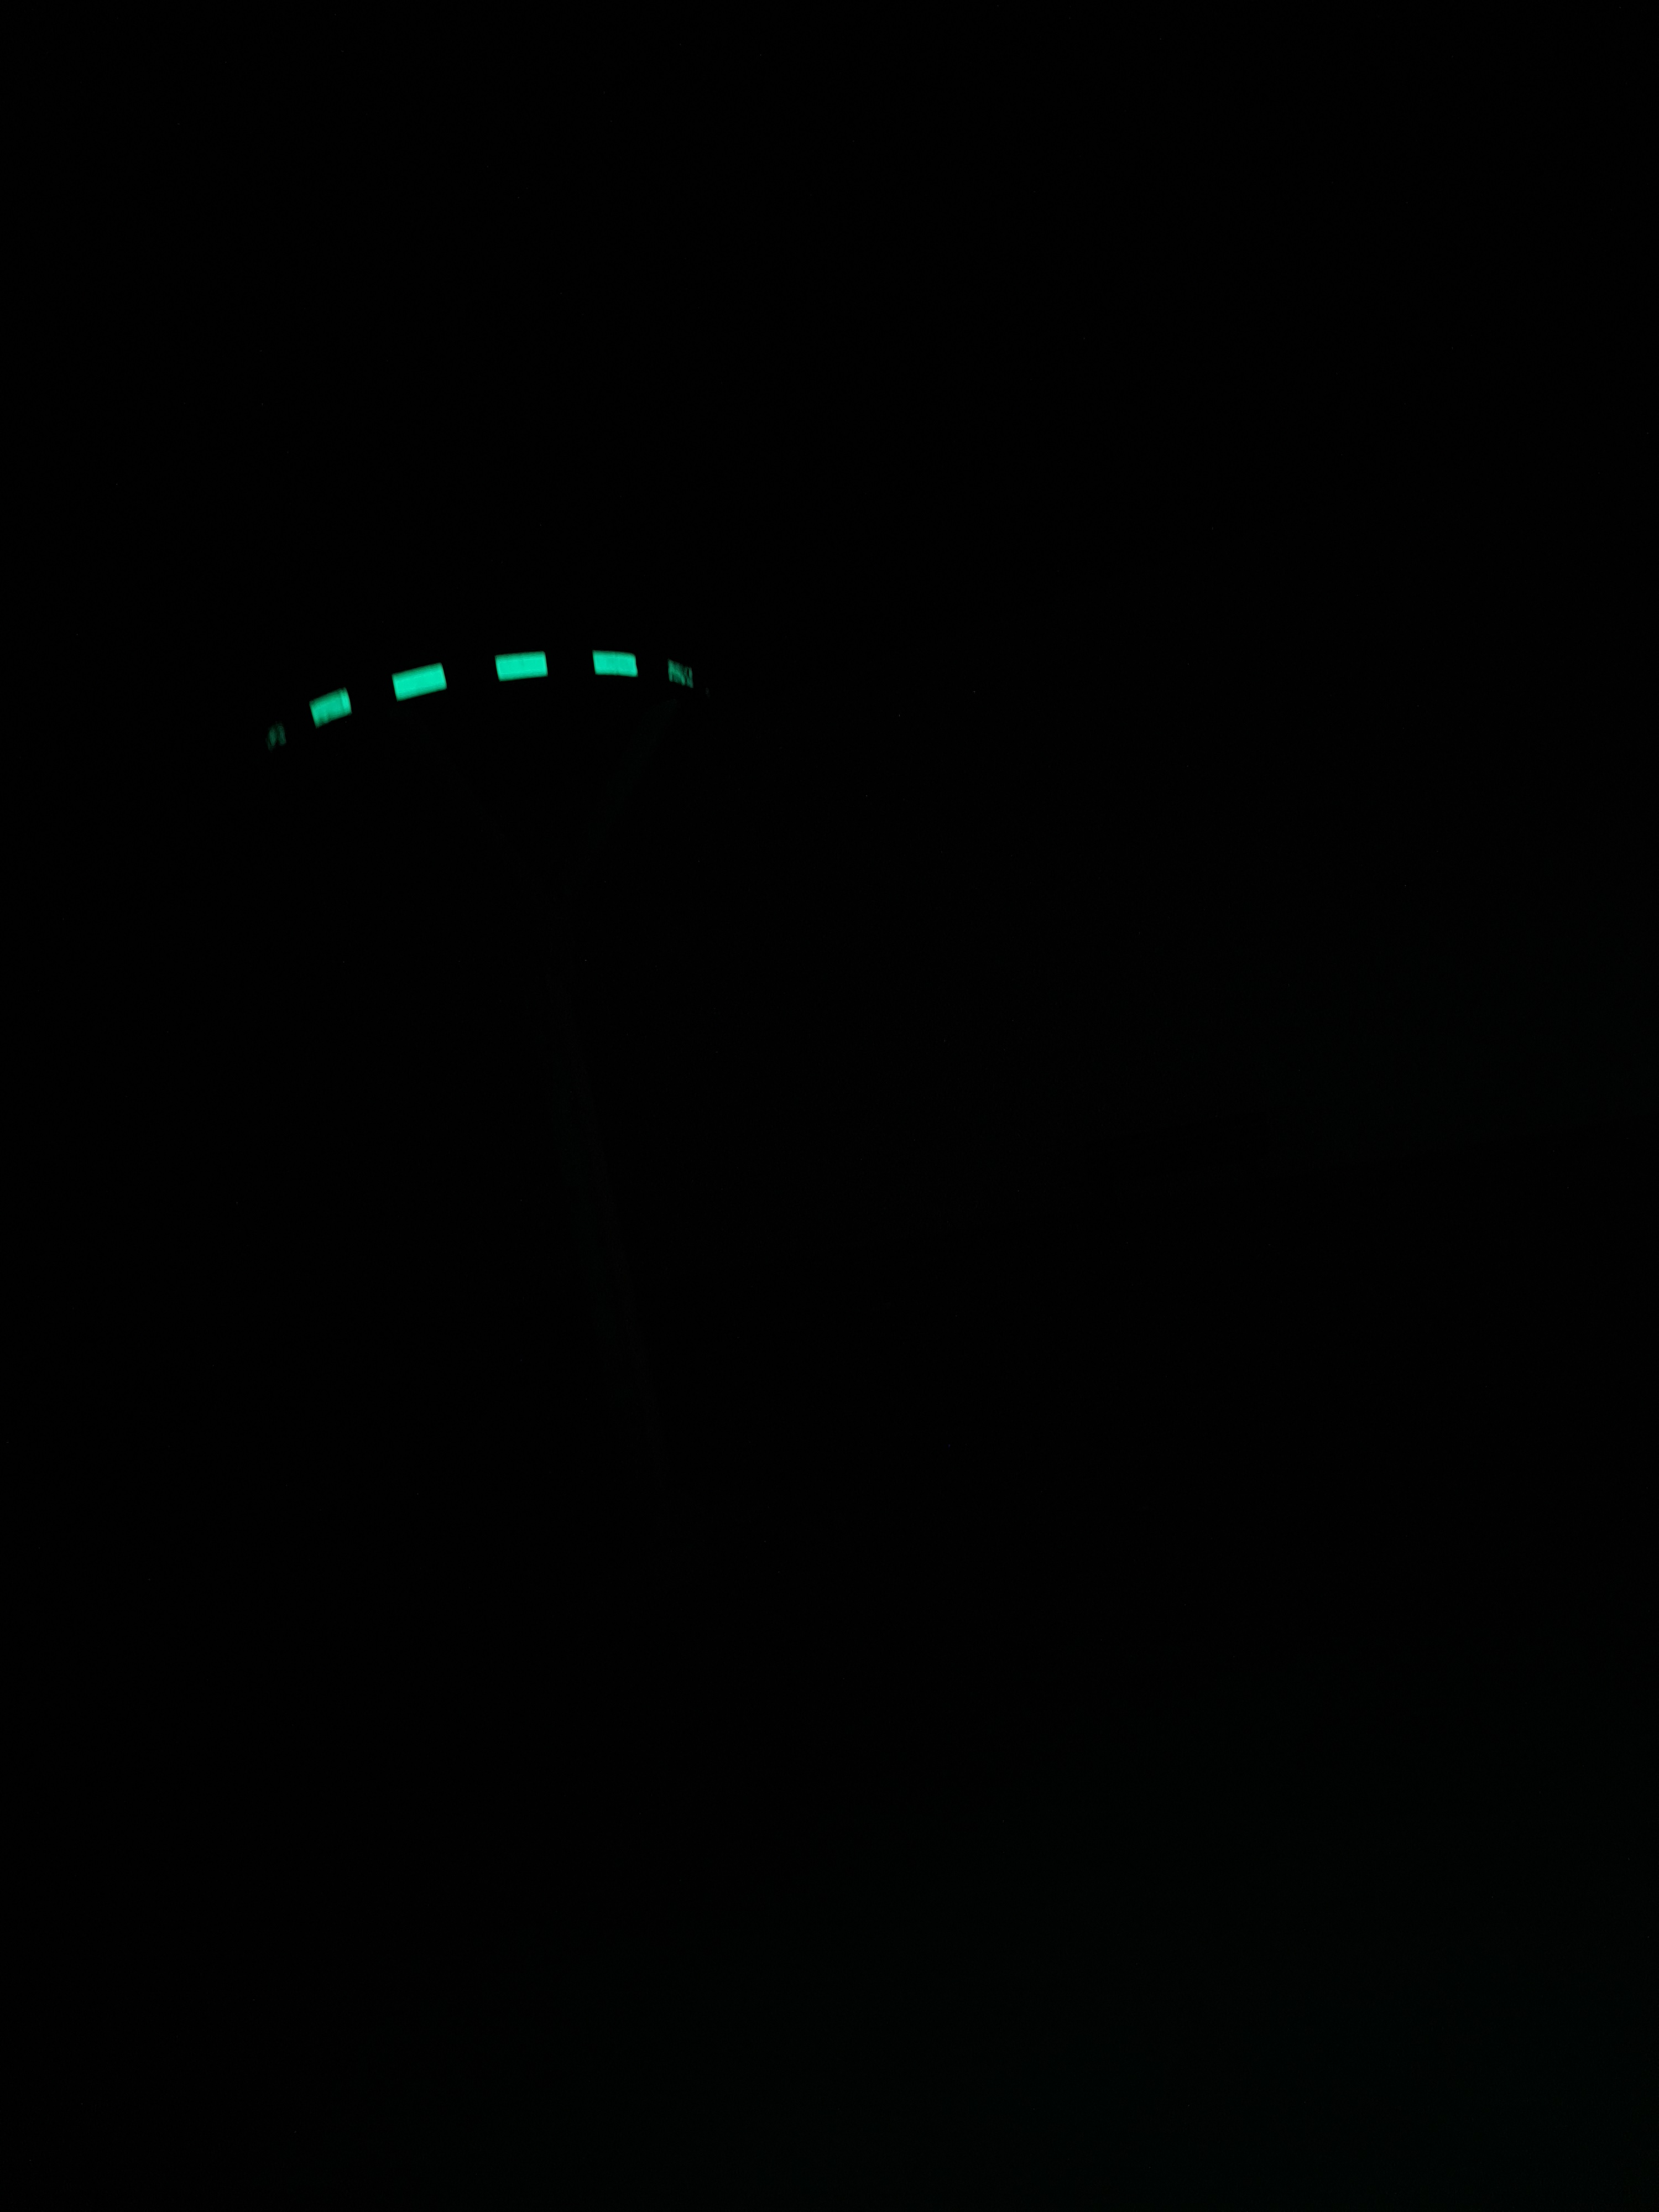hoop: (265, 650, 697, 754)
